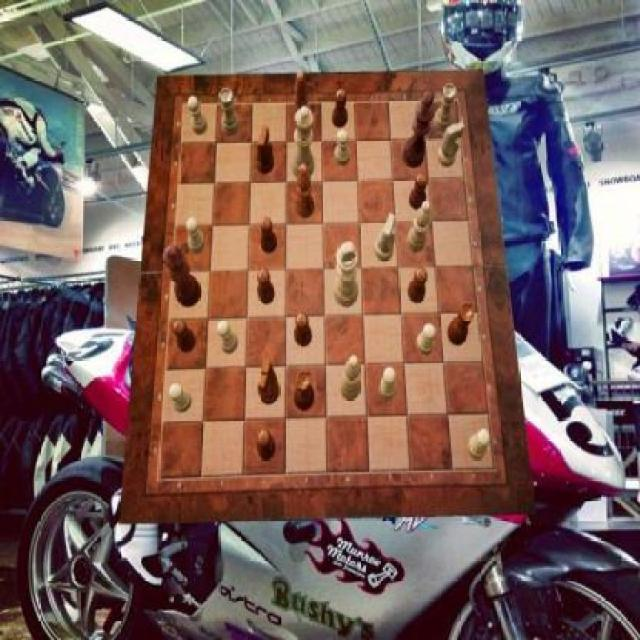bishop: (296, 165, 314, 219), (294, 71, 311, 128)
black-bishop: (403, 91, 435, 168)
black-king: (258, 358, 281, 404), (256, 126, 274, 176)
black-knight: (174, 318, 197, 352), (408, 268, 428, 304), (257, 270, 275, 306), (411, 172, 428, 210), (257, 429, 276, 462), (332, 89, 348, 128), (259, 218, 276, 254), (294, 312, 311, 347)
black-pawn: (163, 245, 202, 307)
black-queen: (448, 302, 474, 346), (294, 369, 314, 411)
black-rook: (408, 200, 432, 252), (338, 355, 361, 401)
white-bishop: (334, 242, 358, 308)
white-king: (437, 121, 465, 167), (374, 214, 396, 261)
white-knight: (188, 97, 208, 135), (217, 319, 239, 353), (468, 428, 490, 460), (187, 218, 206, 254), (417, 325, 437, 357), (170, 383, 192, 412), (336, 129, 352, 167), (379, 368, 396, 402)
white-pawn: (292, 105, 316, 179)
white-queen: (434, 83, 457, 132), (218, 89, 241, 137)
